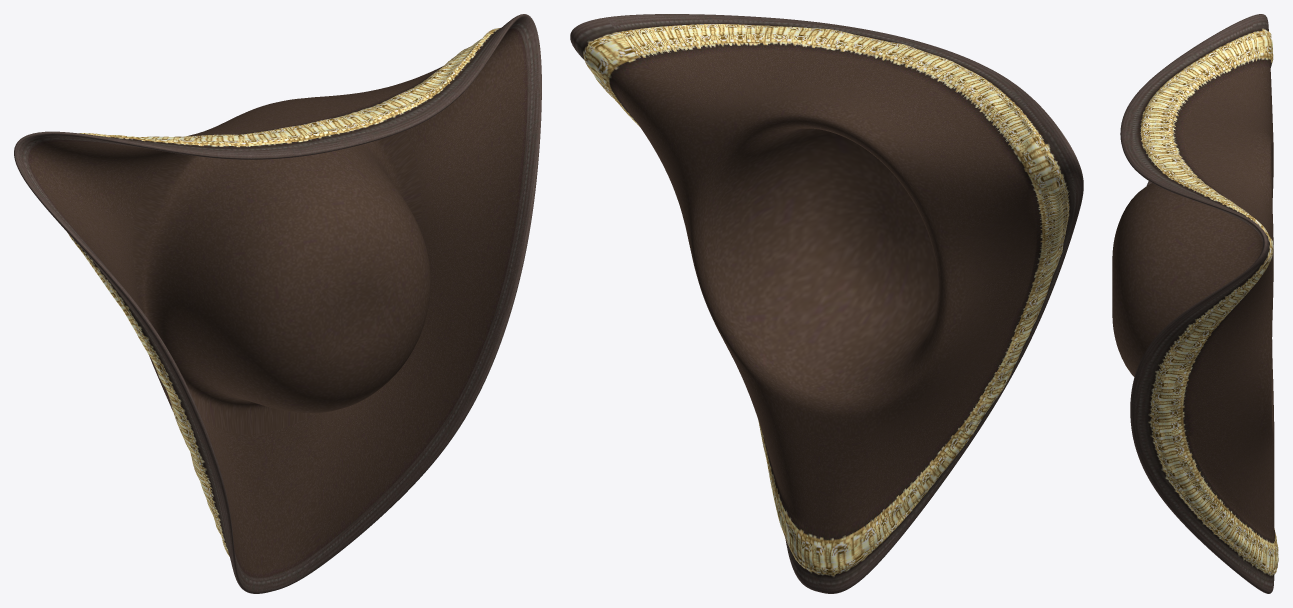
The model's file is 13543_Tricorn_Hat_v1_l2.obj.
3 renders of one model, left to right at view 1: azimuth 30°, elevation 25°; view 2: azimuth 150°, elevation 25°; view 3: azimuth 270°, elevation 25°, orthographic. The views are drawn at different scales.
Visible parts, largest first — view 1: Tricorn_Hat; view 2: Tricorn_Hat; view 3: Tricorn_Hat.
Part boxes in pixels (box(x1,y1,x2,y2)): Tricorn_Hat: box(14, 14, 541, 593); Tricorn_Hat: box(570, 14, 1083, 593); Tricorn_Hat: box(1112, 14, 1278, 593).
Bounding box in the file's own units: 40.24 × 38.68 × 12.38.
Materials: 1 (1 with a texture image).
